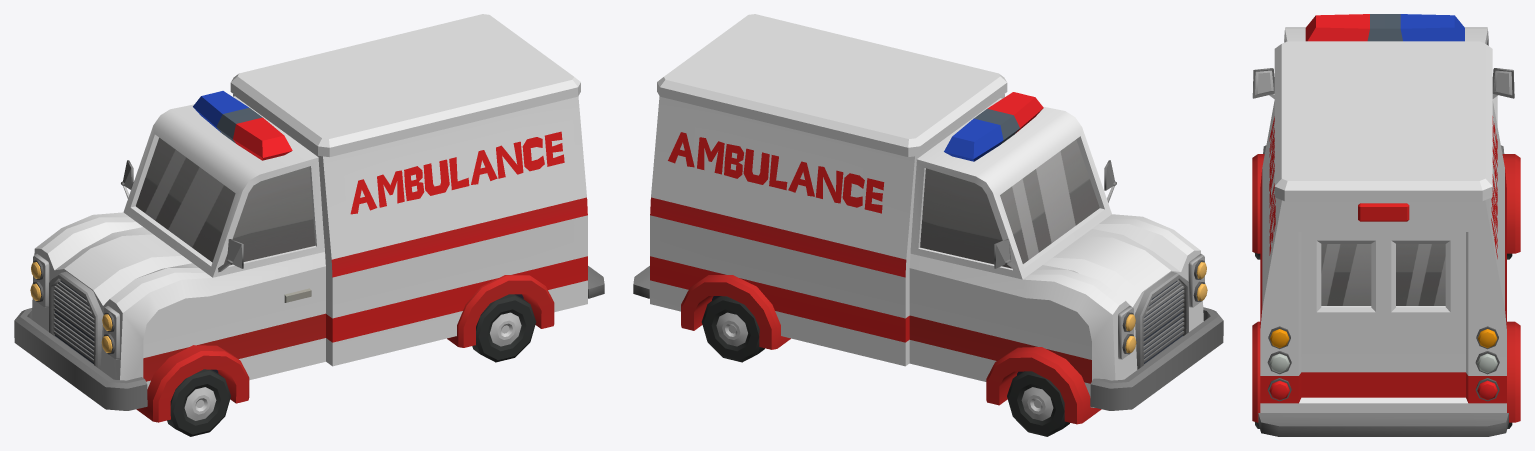
The model's file is Ambulance_2_B.fbx.
3 views of the same model, side by side, from view 1: azimuth 30°, elevation 25°; view 2: azimuth 150°, elevation 25°; view 3: azimuth 270°, elevation 25° (orthographic). The views are drawn at different scales.
Visible parts, largest first — view 1: Ambulance_2_B, RL, FL; view 2: Ambulance_2_B, RR, FR; view 3: Ambulance_2_B.
Boxes of the visible parts, left/top/right/bottom form: Ambulance_2_B: left=14, top=14, right=604, bottom=422; RL: left=472, top=294, right=536, bottom=362; FL: left=167, top=369, right=230, bottom=436; Ambulance_2_B: left=633, top=14, right=1223, bottom=424; RR: left=701, top=296, right=764, bottom=362; FR: left=1007, top=371, right=1069, bottom=436; Ambulance_2_B: left=1252, top=14, right=1520, bottom=436.
Bounding box in the file's own units: 408 × 199 × 168.
